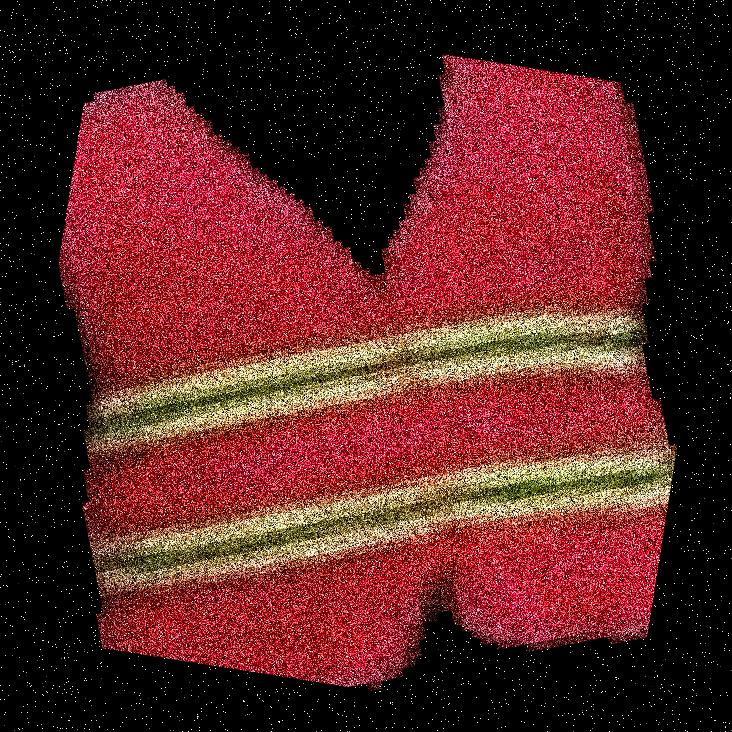Colete: (136, 0, 707, 731)
